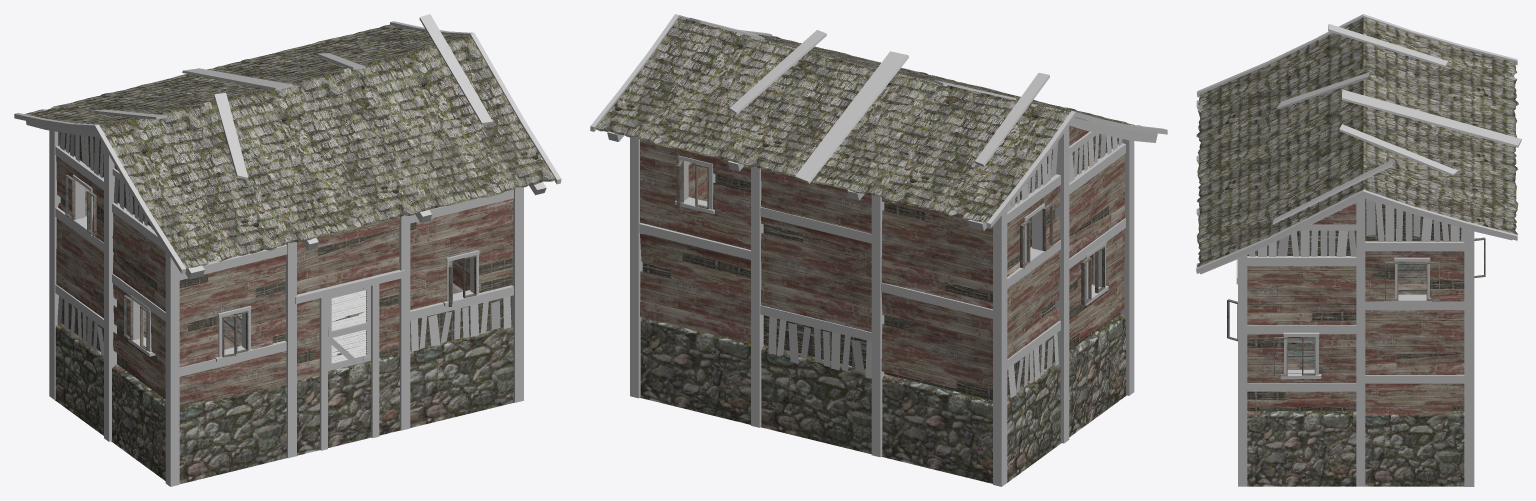
File: House11_LOD1.fbx
3 renders of one model, left to right at view 1: azimuth 30°, elevation 25°; view 2: azimuth 150°, elevation 25°; view 3: azimuth 270°, elevation 25°, orthographic. The views are drawn at different scales.
Visible parts, largest first — view 1: Roof, Base, Floor, Windows, Doors; view 2: Base, Roof, Floor, Windows; view 3: Roof, Base, Floor, Windows.
Part boxes in pixels (<box>): Roof: <box>14,14,561,279</box>; Base: <box>49,33,523,486</box>; Floor: <box>55,283,513,484</box>; Windows: <box>65,174,481,362</box>; Doors: <box>328,286,370,370</box>; Base: <box>630,97,1134,486</box>; Roof: <box>590,14,1167,230</box>; Floor: <box>640,314,1126,483</box>; Windows: <box>675,155,1108,305</box>; Roof: <box>1196,14,1521,274</box>; Base: <box>1236,54,1474,486</box>; Floor: <box>1247,261,1464,486</box>; Windows: <box>1227,237,1485,378</box>.
Bounding box in the file's own units: 11.7 × 9.76 × 9.07.
